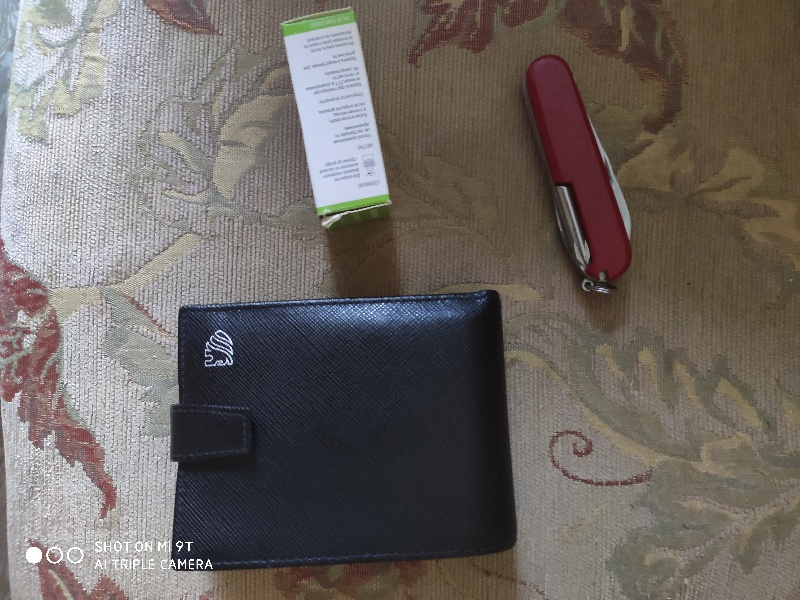ifrin: (268, 5, 401, 245)
knife: (521, 45, 645, 305)
wallet: (155, 291, 531, 575)
